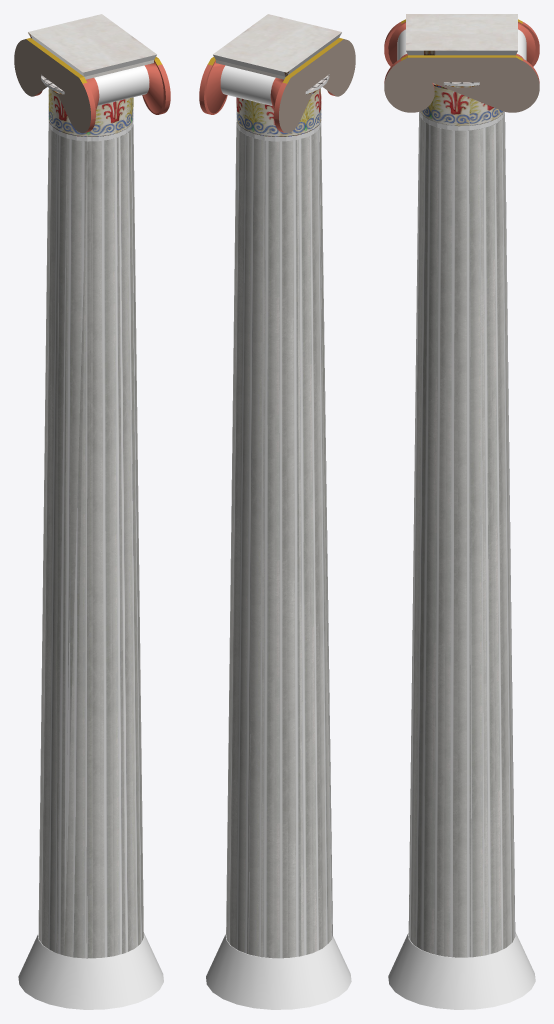
Rendered from erecolumn.fbx.
3 renders of one model, left to right at view 1: azimuth 30°, elevation 25°; view 2: azimuth 150°, elevation 25°; view 3: azimuth 270°, elevation 25°, orthographic.
Parts seen in each view (by area): view 1: Model; view 2: Model; view 3: Model.
Part boxes in pixels (x1=…): Model: x1=14, y1=14, x2=170, y2=1009; Model: x1=199, y1=14, x2=355, y2=1009; Model: x1=384, y1=14, x2=539, y2=1009.
Bounding box in the file's own units: 884 × 6260 × 932.
